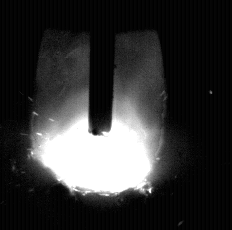arame: (89, 0, 114, 136)
poca: (30, 0, 164, 230)
